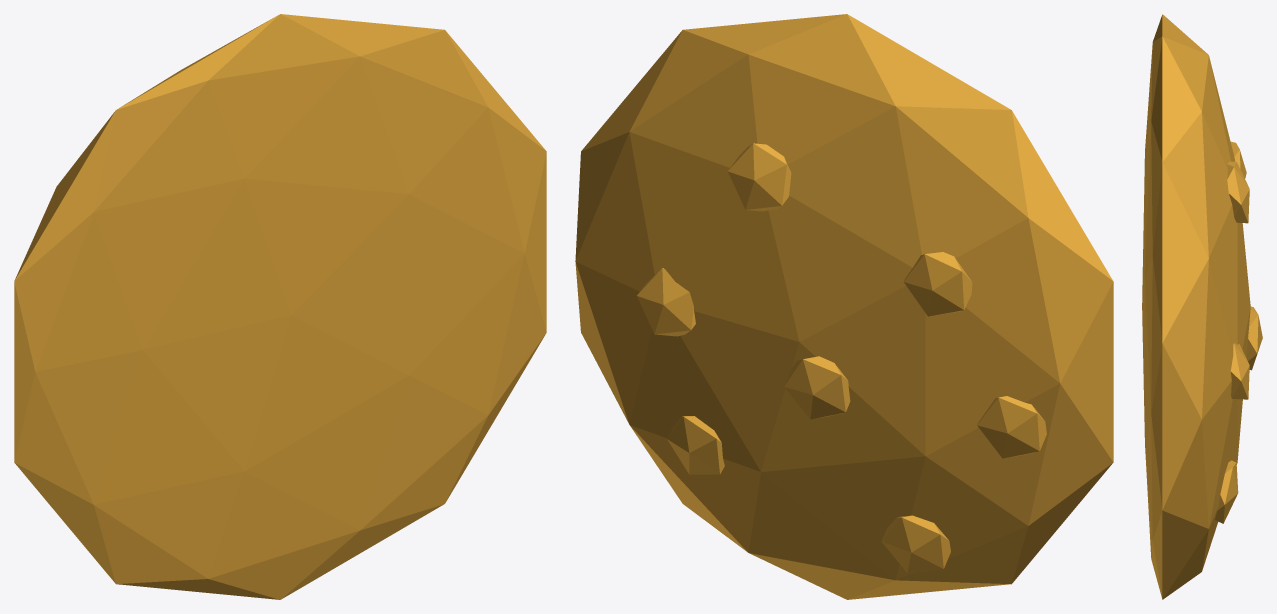
The model's file is Cookie2.fbx.
3 views of the same model, side by side, from view 1: azimuth 30°, elevation 25°; view 2: azimuth 150°, elevation 25°; view 3: azimuth 270°, elevation 25° (orthographic). The views are drawn at different scales.
Visible parts, largest first — view 1: Cookie2; view 2: Cookie2; view 3: Cookie2.
Boxes of the visible parts, <box> form: Cookie2: <box>14,14,546,599</box>; Cookie2: <box>575,14,1113,599</box>; Cookie2: <box>1142,14,1262,599</box>.
Bounding box in the file's own units: 190 × 200 × 40.47.
